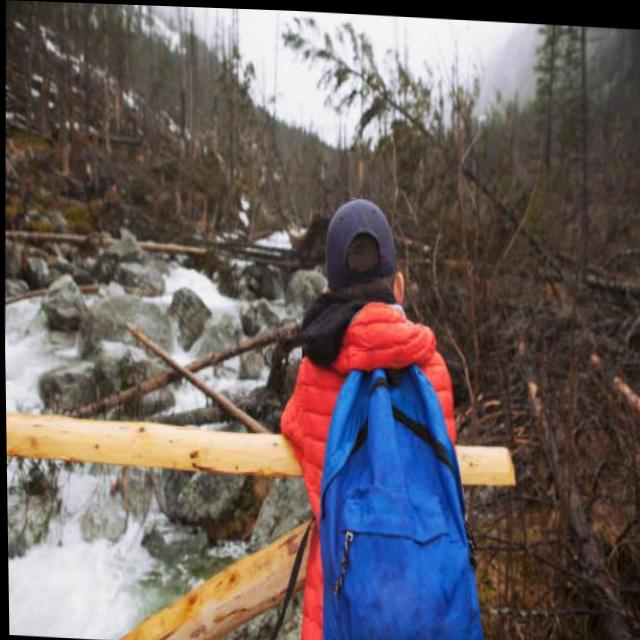no helmet: (311, 180, 414, 331)
